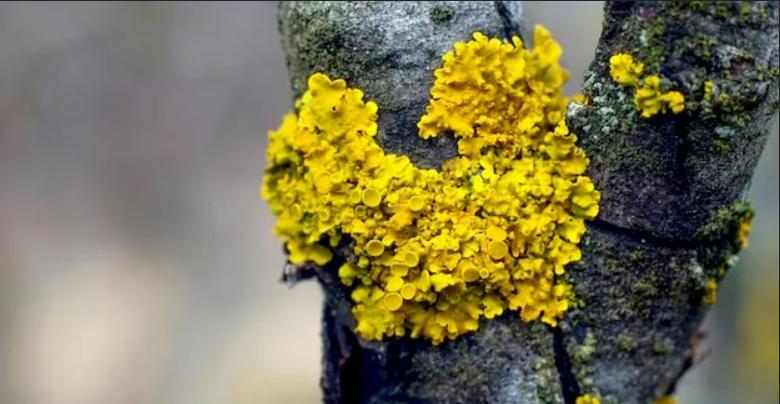lichen: (262, 27, 600, 344)
